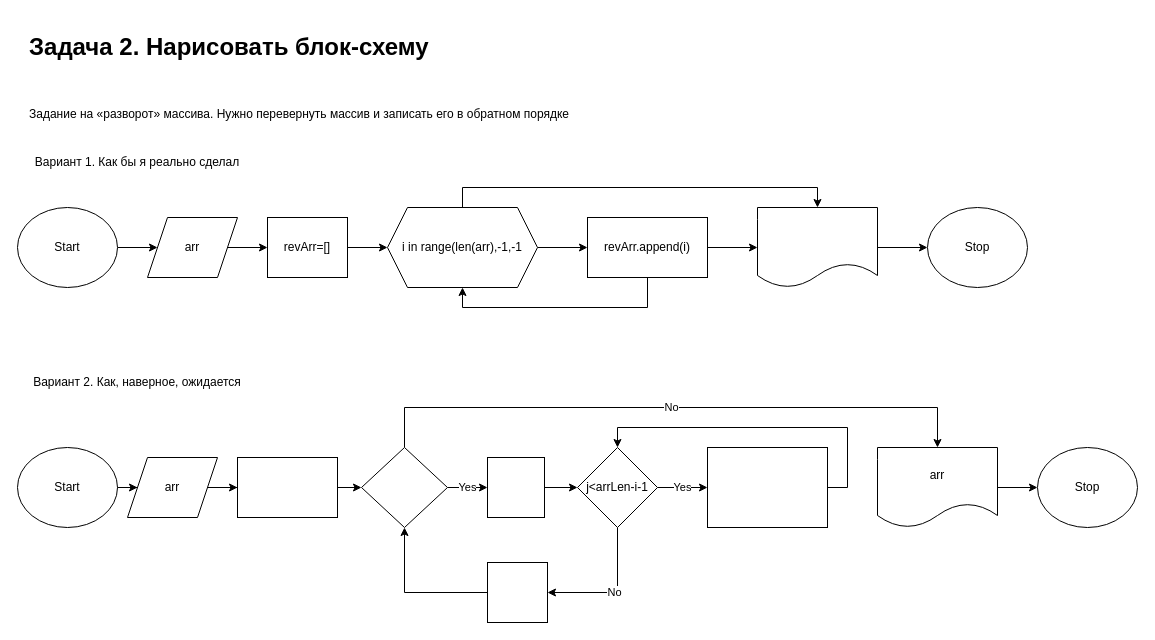
This 1155x640 diagram has some shape labels left out. Each missing label, with the centre of its shape:
"i<arrLen-1" goes at point (404, 487).
"i=0 arrLen=len(arr)" goes at point (287, 487).
"i=1" goes at point (517, 592).
"j=0" goes at point (515, 487).
"revArr" goes at point (817, 247).
"temp=arr[j] arr[j]=arr[j+1] arr[j+1]=temp j+=1" goes at point (767, 487).
